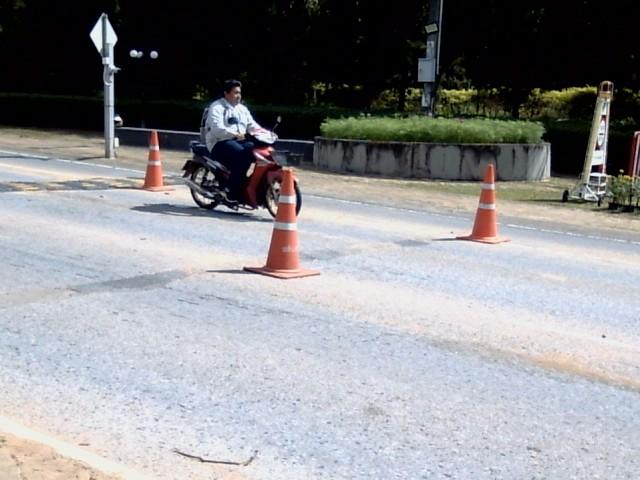motor: (182, 128, 285, 216)
no-helmet: (221, 77, 241, 104)
person: (206, 79, 260, 202)
